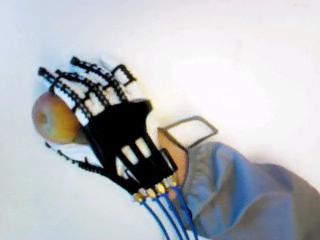apple: (29, 91, 81, 145)
hand: (38, 56, 178, 203)
